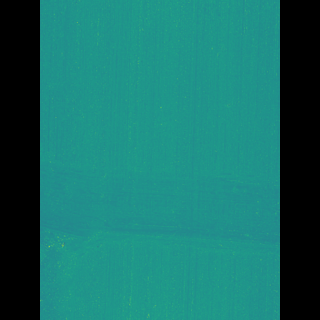Loch: (69, 153, 251, 264)
